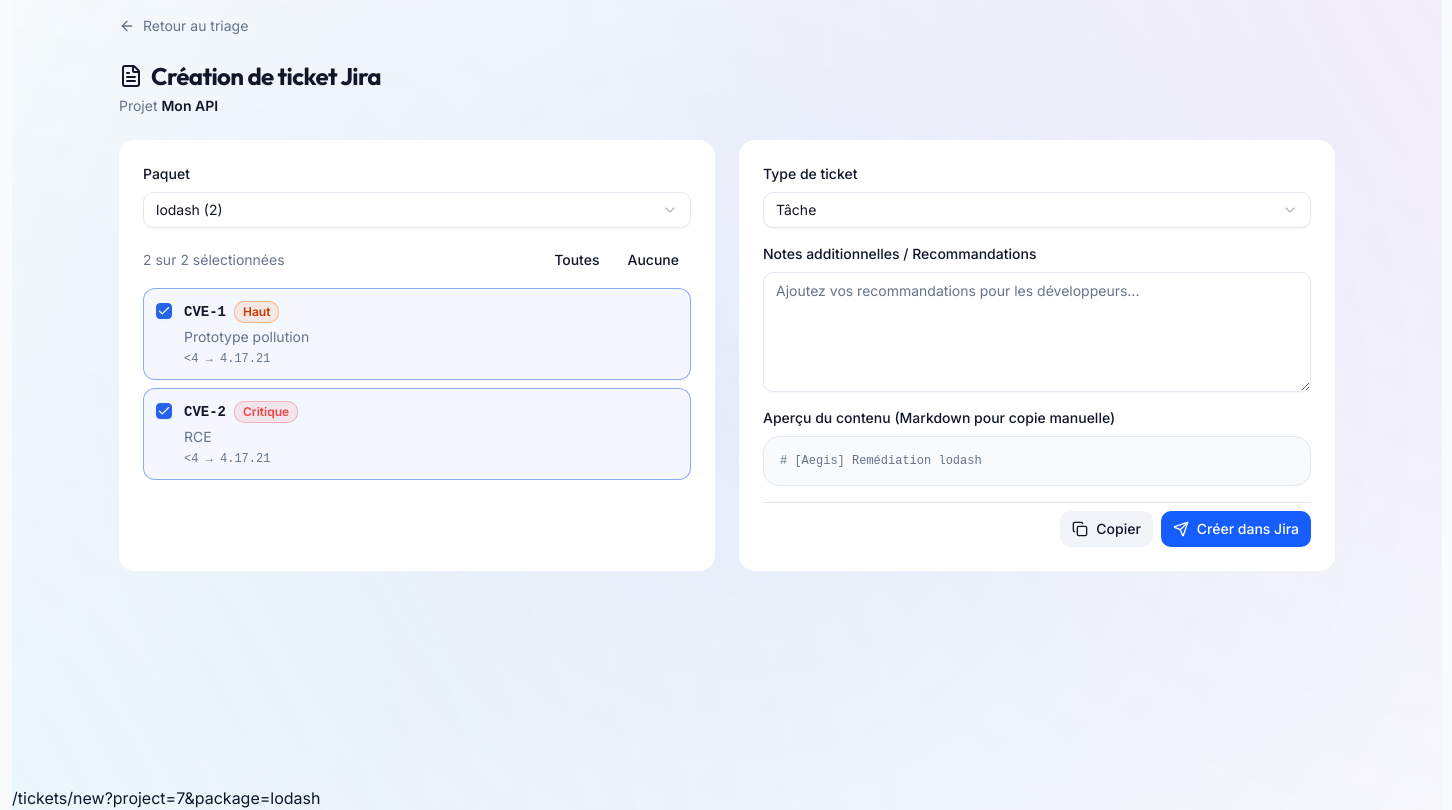
Test case: TicketCreate › un refus du serveur s'affiche, et la page reste
expect the text "# [Aegis] Remédiation lodash" is shown: met, box [763, 436, 1311, 486]
Click the button "Créer dans Jira": (1236, 529) [1161, 511, 1311, 547]
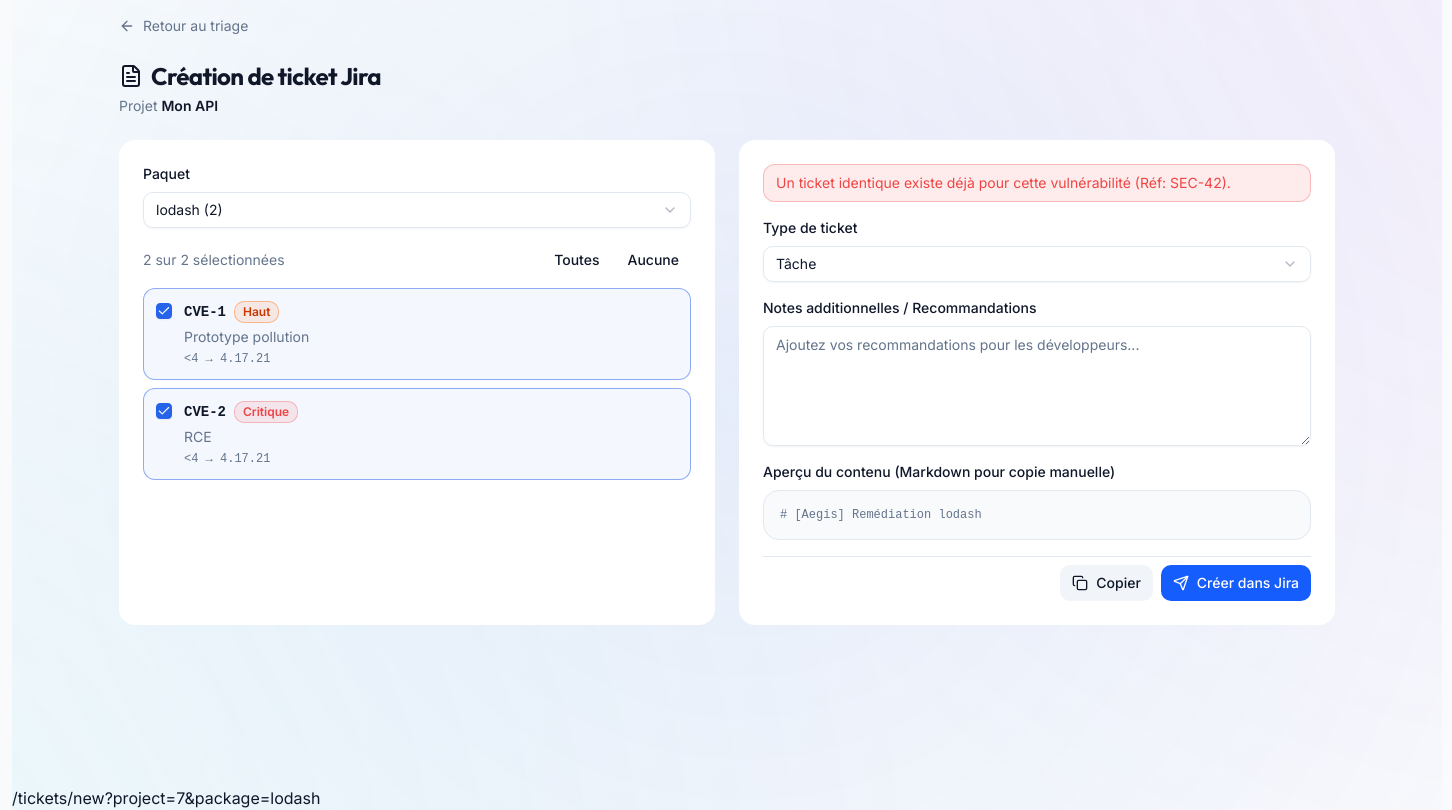
expect the number of checkboxes is 2: met, box [156, 303, 172, 319]; [156, 403, 172, 419]
expect the message shows "SEC-42": met, box [776, 174, 1231, 191]
